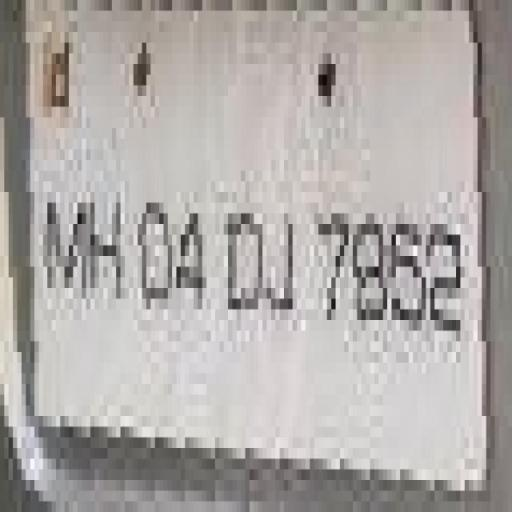number plate: (13, 32, 512, 470)
